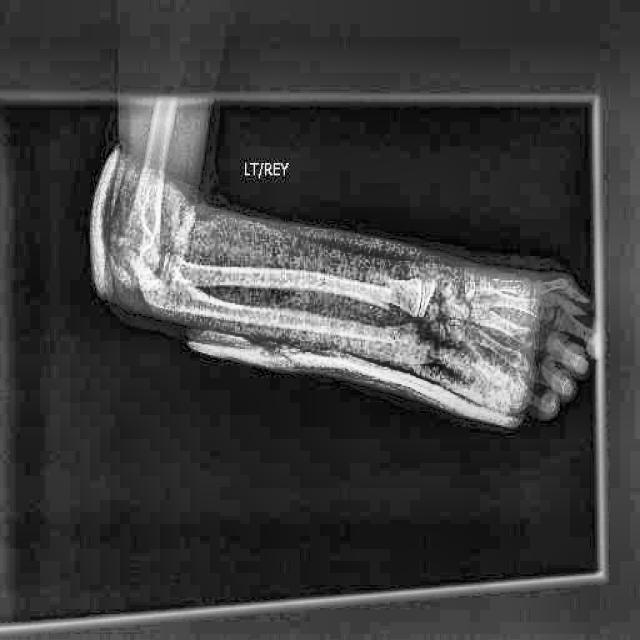forearm fracture: (355, 252, 419, 327)
